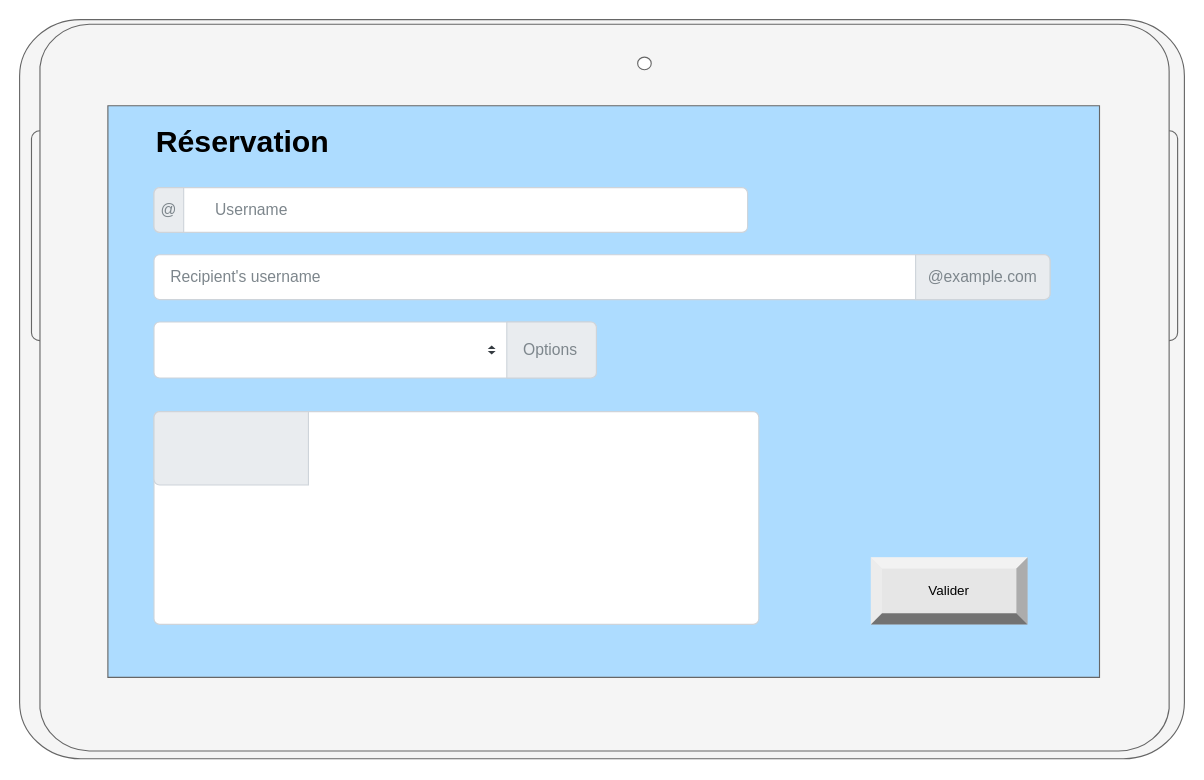
Image size: 1204x780. Some labels were removed from this diagram. Here are the shapes that lost their labels. From the top down, the centre of each, then its label:
the point at 374,349: Choix date...
the point at 230,447: With textarea
